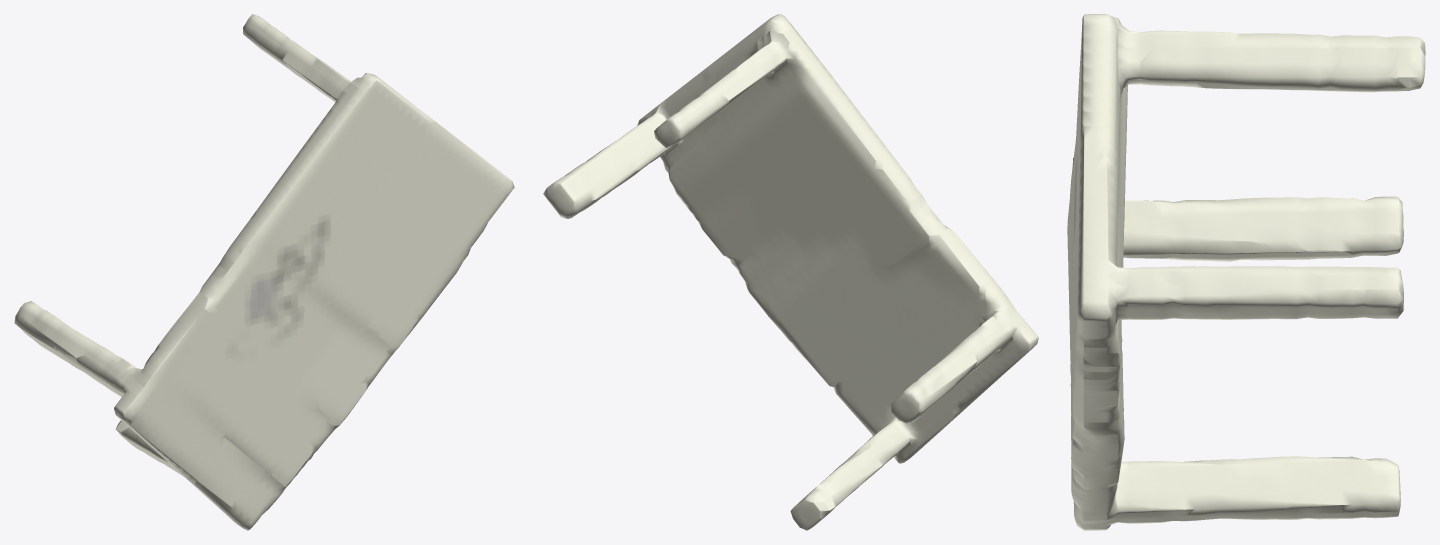
File: desk.gltf
The picture shows the model from 3 angles, left to right: view 1: azimuth 30°, elevation 25°; view 2: azimuth 150°, elevation 25°; view 3: azimuth 270°, elevation 25°; orthographic projection. The views are drawn at different scales.
Visible parts, largest first — view 1: Layer_1; view 2: Layer_1; view 3: Layer_1.
Boxes of the visible parts, <box> form: Layer_1: <box>14,14,514,530</box>; Layer_1: <box>543,14,1038,530</box>; Layer_1: <box>1067,14,1425,530</box>.
Bounding box in the file's own units: 44.22 × 44.8 × 24.
1 material, 1 textured.
